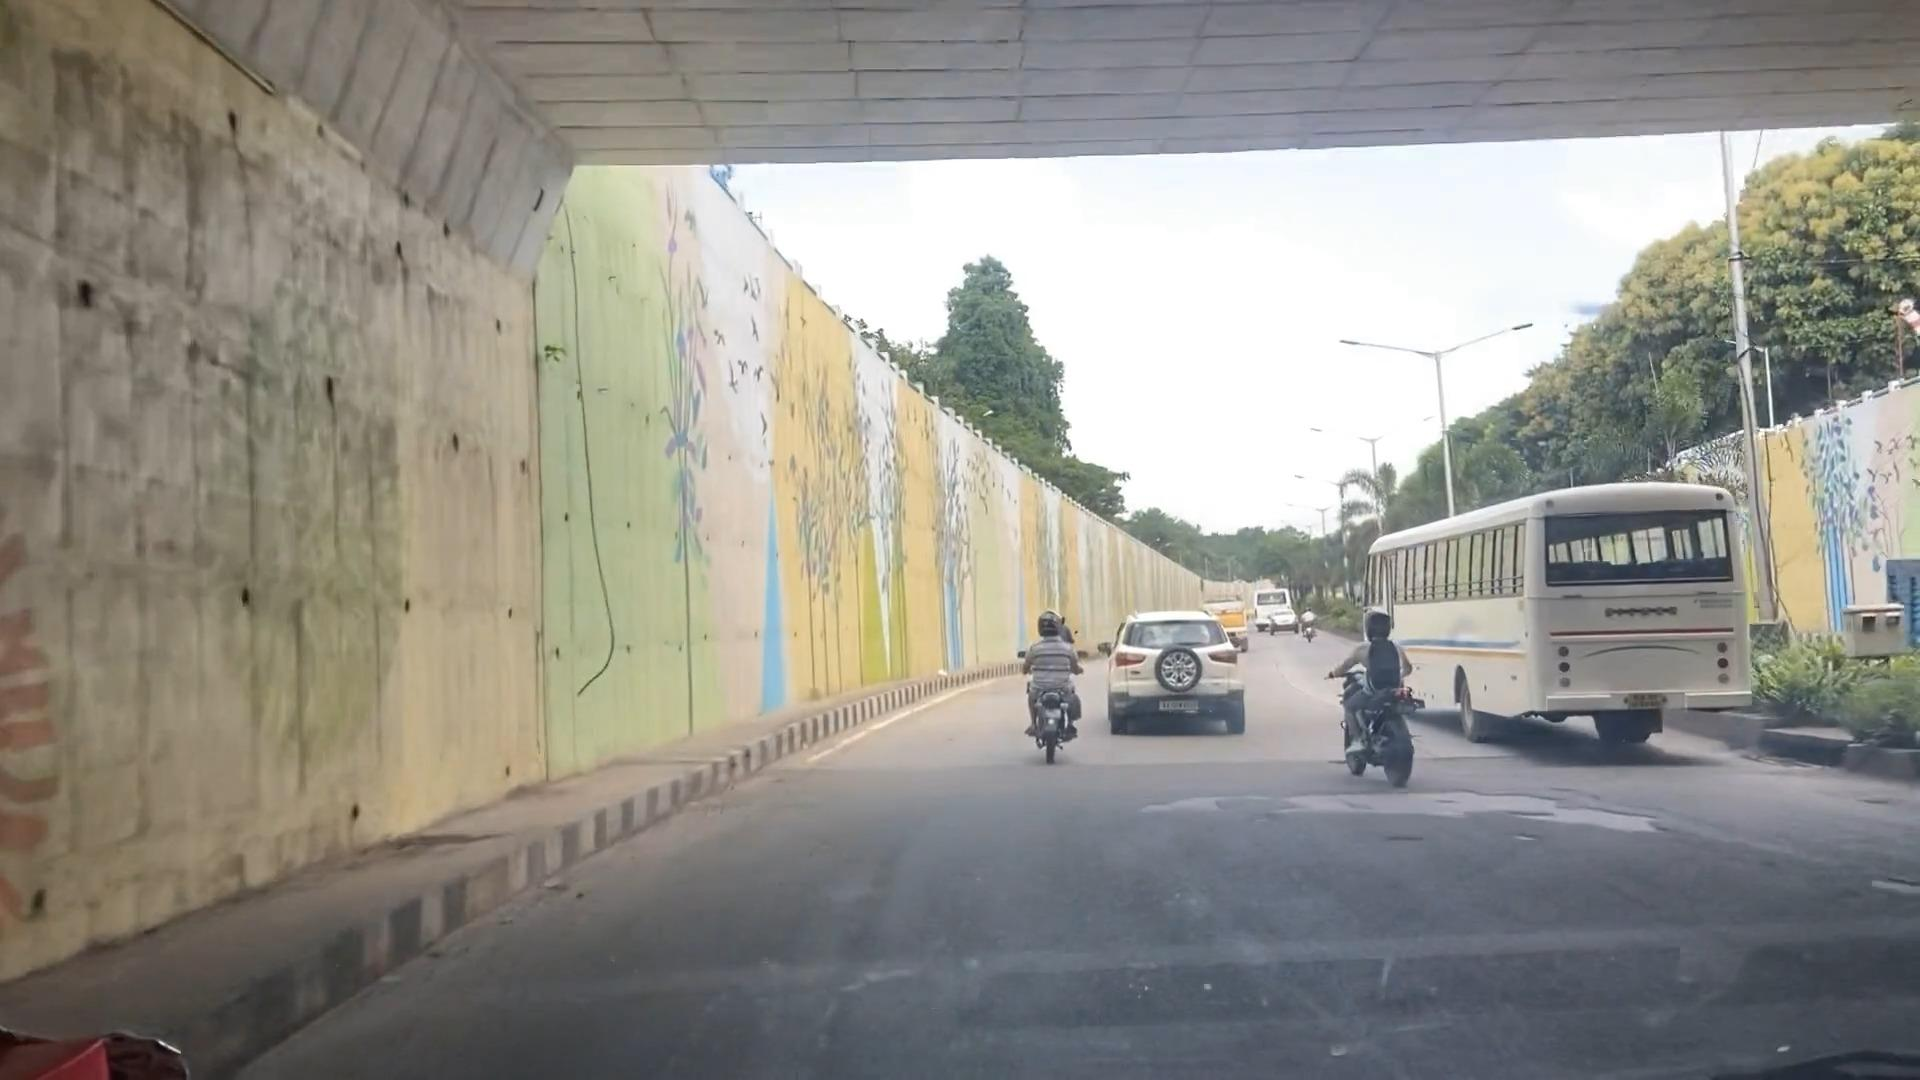HMV: (1369, 487, 1743, 742)
LMV: (1106, 612, 1247, 733), (1338, 612, 1422, 775), (1021, 608, 1085, 754)
RoadDamages: (1129, 782, 1687, 858)
